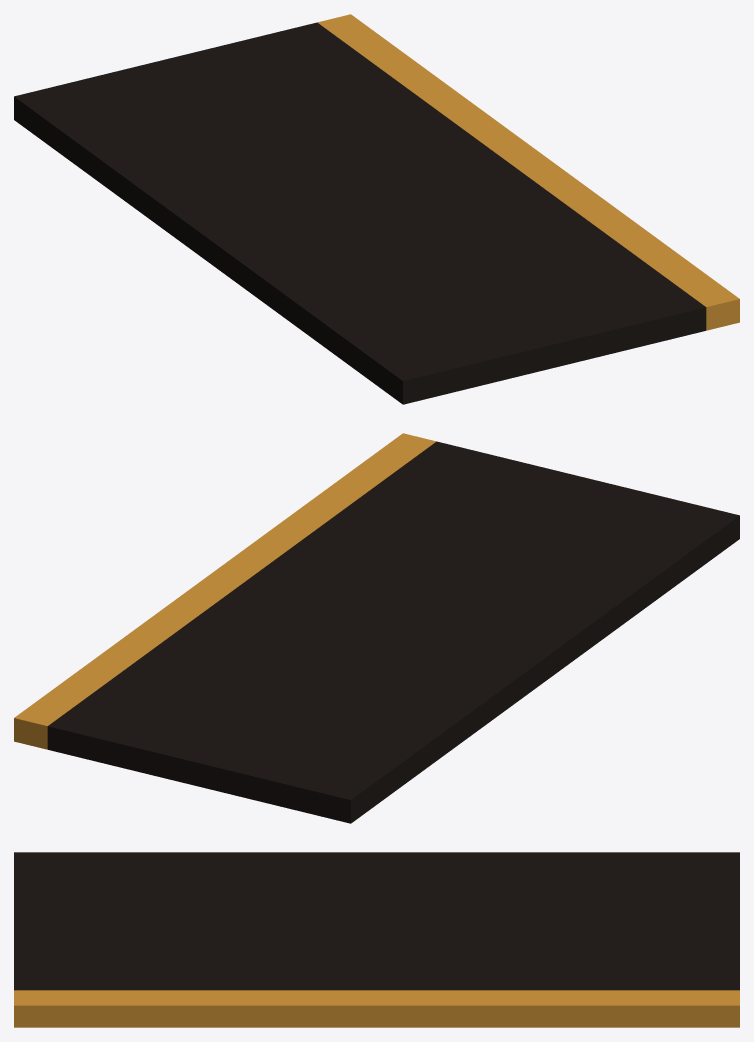
The model's file is 10m floor.FBX.
The picture shows the model from 3 angles, top to bottom: view 1: azimuth 30°, elevation 25°; view 2: azimuth 150°, elevation 25°; view 3: azimuth 270°, elevation 25°; orthographic projection. The views are drawn at different scales.
Parts seen in each view (by area): view 1: Box011; view 2: Box011; view 3: Box011.
Part boxes in pixels (x1=…): Box011: x1=14, y1=14, x2=739, y2=404; Box011: x1=14, y1=433, x2=739, y2=823; Box011: x1=14, y1=852, x2=739, y2=1027.
Size of the model in its own units: 5 by 0.334 by 10.
